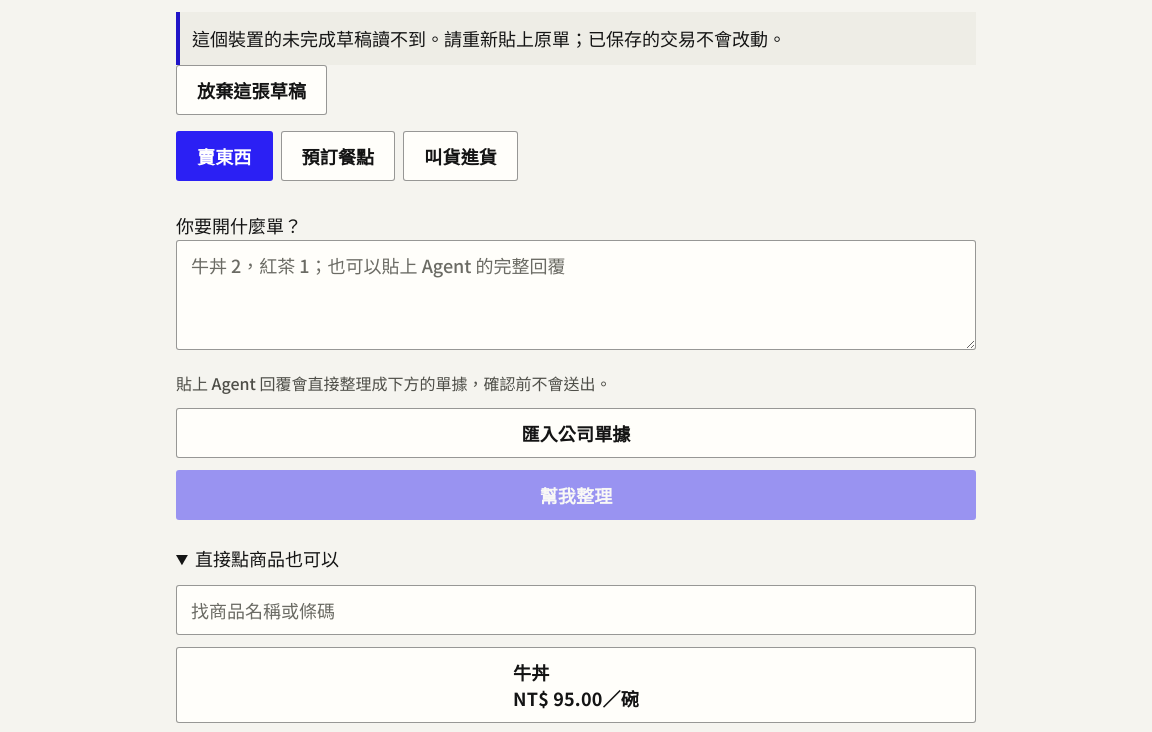
corrupt saved input is preserved for recovery until an explicit discard
(page scrolled)
Check: the text "這個裝置的未完成草稿讀不到。請重新貼上原單；已保存的交易不會改動。" is shown, box [176,12,976,65]
Click the button "放棄這張草稿": [252, 90] box [176,65,327,115]
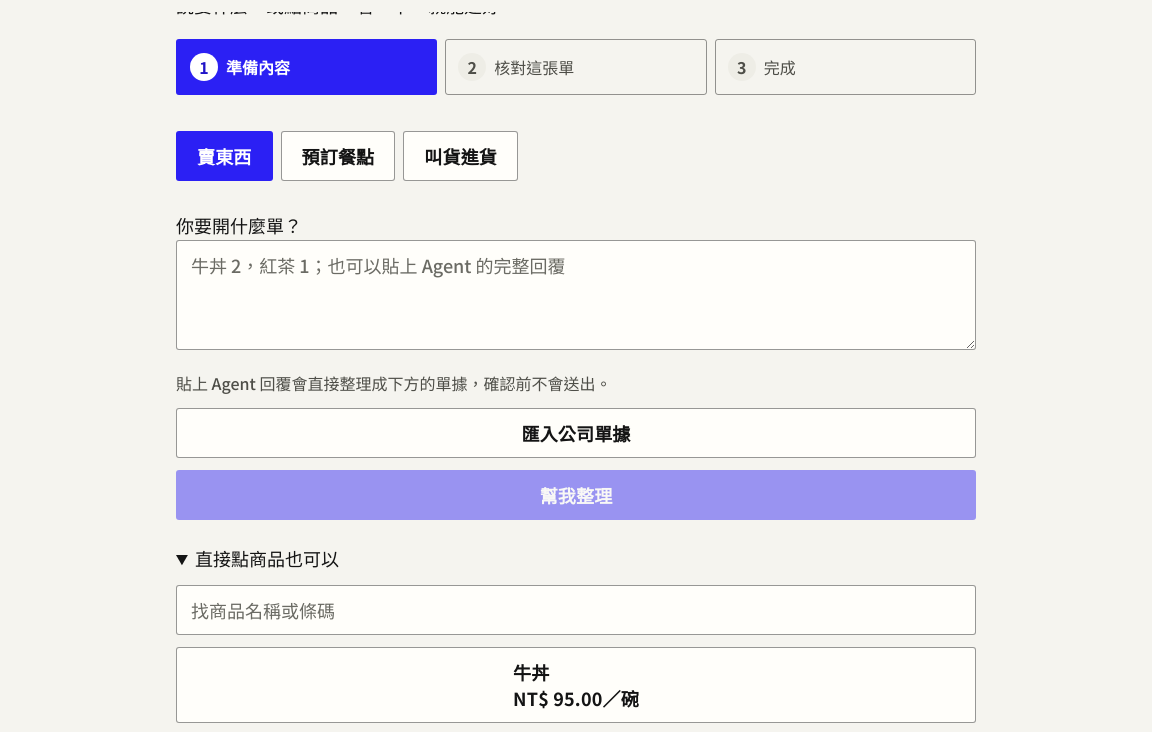
Check: the text "未完成草稿讀不到" is gone
